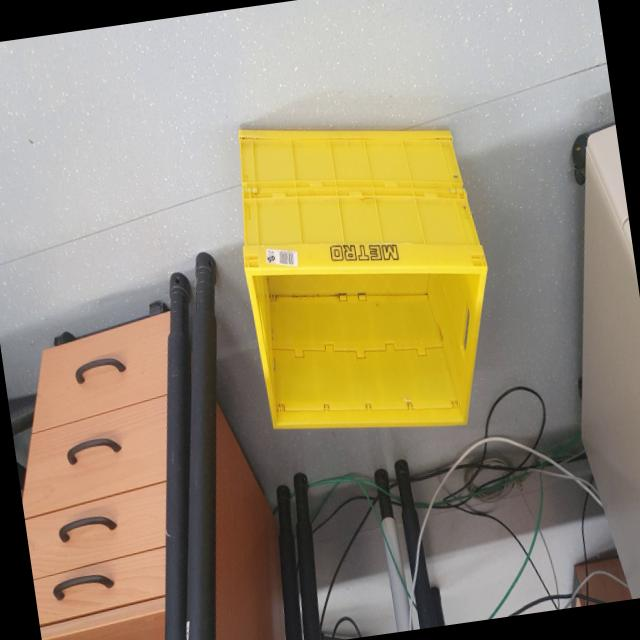box: (219, 74, 513, 464)
